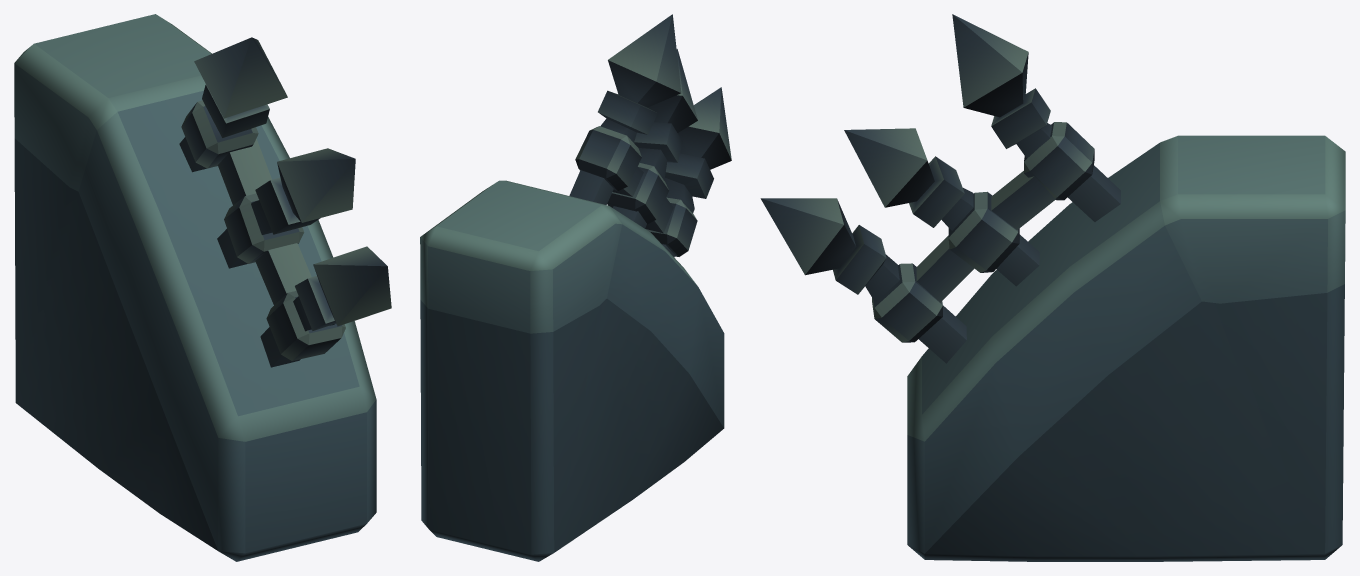
Rendered from stair_wall.fbx.
3 views of the same model, side by side, from view 1: azimuth 30°, elevation 25°; view 2: azimuth 150°, elevation 25°; view 3: azimuth 270°, elevation 25° (orthographic). The views are drawn at different scales.
Visible parts, largest first — view 1: stair_wall; view 2: stair_wall; view 3: stair_wall.
Part boxes in pixels (left/top/right/bottom): stair_wall: left=14, top=14, right=391, bottom=561; stair_wall: left=420, top=14, right=731, bottom=561; stair_wall: left=760, top=14, right=1345, bottom=561.
Bounding box in the file's own units: 56.75 × 163 × 172.
